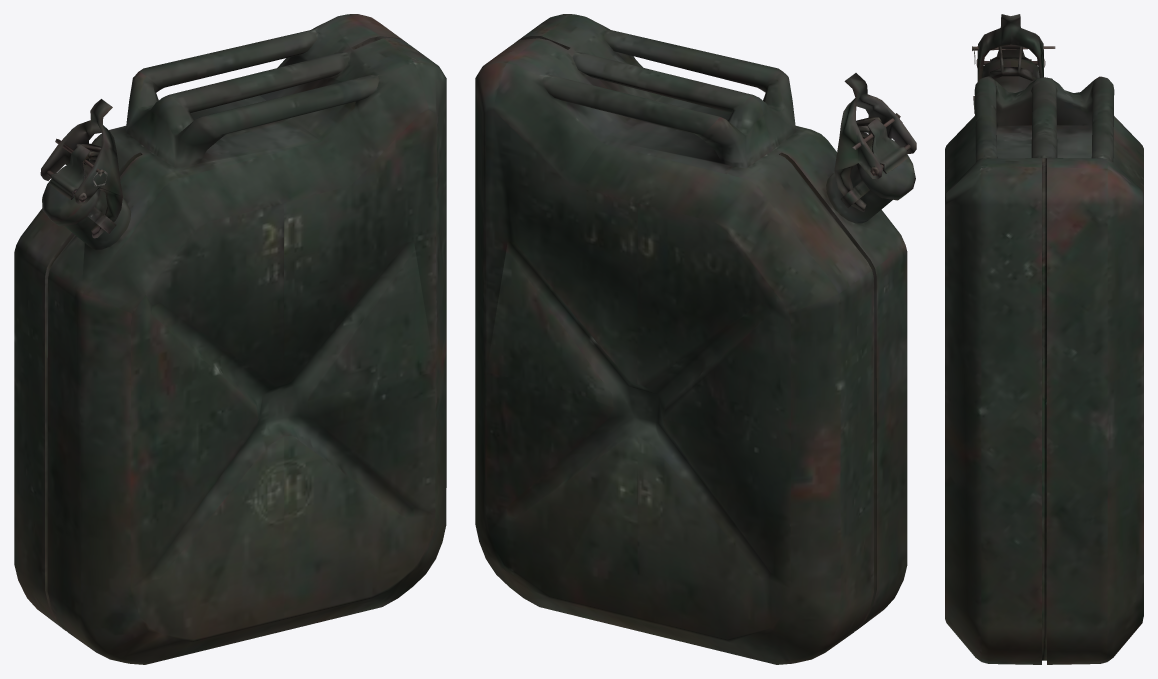
File: metal_jerrycan_green.glb
3 views of the same model, side by side, from view 1: azimuth 30°, elevation 25°; view 2: azimuth 150°, elevation 25°; view 3: azimuth 270°, elevation 25° (orthographic). The views are drawn at different scales.
Parts seen in each view (by area): view 1: metal_jerrycan_green_pin; view 2: metal_jerrycan_green_pin; view 3: metal_jerrycan_green_pin.
Part boxes in pixels (box(x1,y1,x2,y2)): metal_jerrycan_green_pin: box(14, 14, 446, 664); metal_jerrycan_green_pin: box(475, 14, 916, 664); metal_jerrycan_green_pin: box(945, 14, 1143, 664).
Size of the model in its own units: 0.36 by 0.4998 by 0.1709.
1 material, 1 textured.
